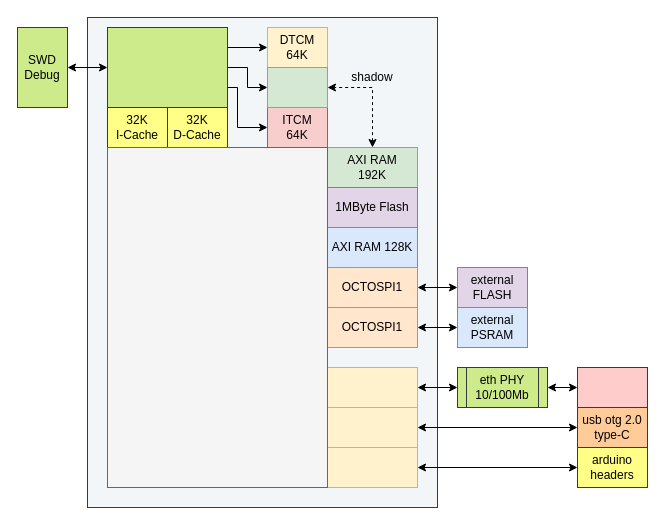
Image size: 665x525. Some labels were removed from this diagram. Here are the shapes that lost their labels. From the top down, the centre of each, then its label:
At point 167,67: "cortex M7 at 550MHz".
At point 297,87: "DTCM 192K".
At point 217,317: "crossbar AXI interconnect".
At point 372,387: "ETH".
At point 612,387: "RJ45".
At point 372,427: "USB OTG".
At point 372,467: "SPI I2C UART GPIO PWM".
